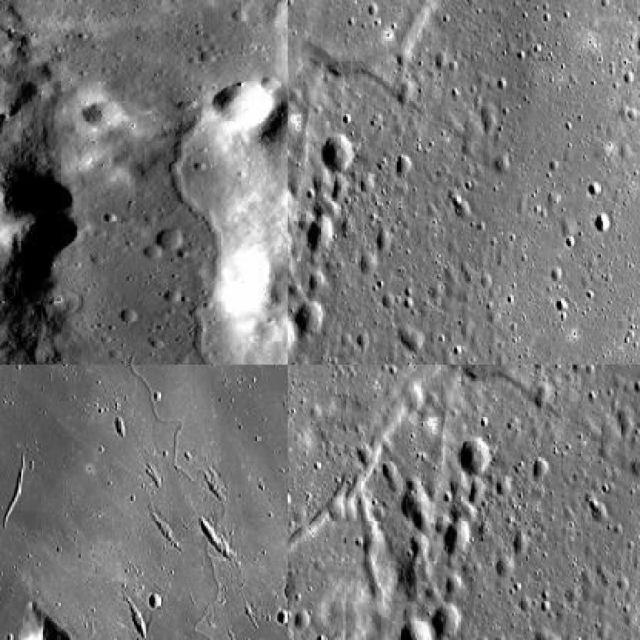rille: (0, 364, 286, 638), (352, 364, 574, 602), (288, 0, 437, 298), (149, 120, 243, 363)
